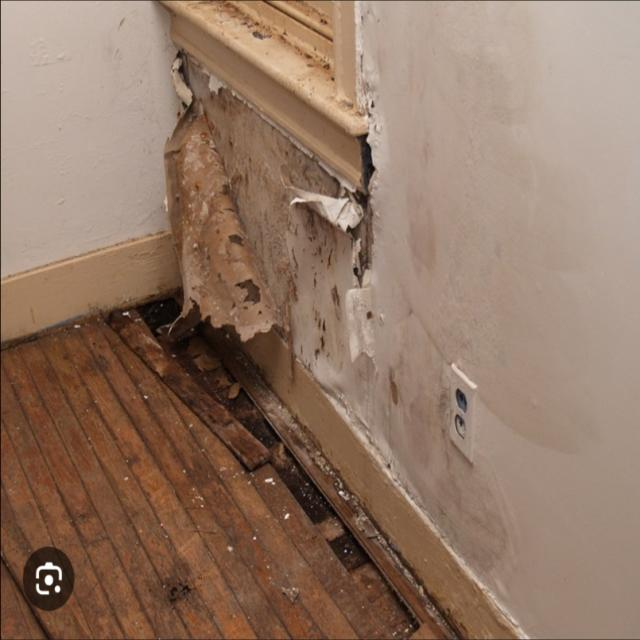broken_timber_floor: (78, 287, 471, 639)
damaged_wall: (173, 43, 361, 376)
wall_leaking: (315, 0, 601, 580)
